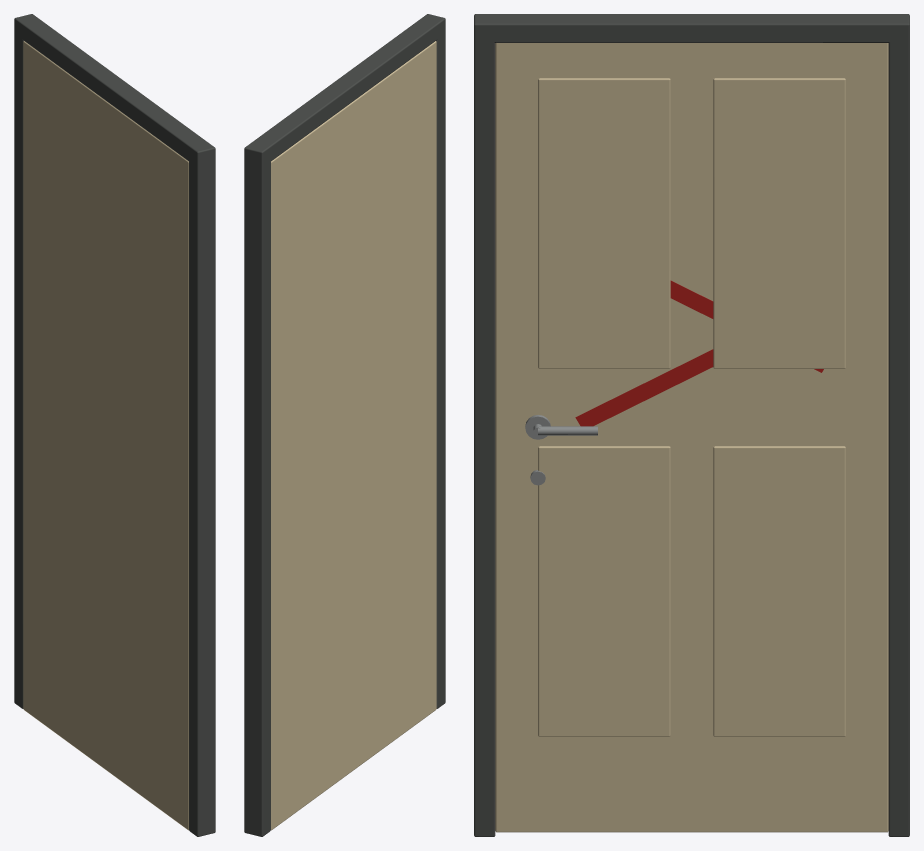
Rendered from door_steel_cream.glb.
3 views of the same model, side by side, from view 1: azimuth 30°, elevation 25°; view 2: azimuth 150°, elevation 25°; view 3: azimuth 270°, elevation 25° (orthographic). The views are drawn at different scales.
Parts seen in each view (by area): view 1: blatt, zarge_r, zarge_l, zarge_o; view 2: blatt, zarge_l, zarge_r, zarge_o; view 3: blatt, praegung01, praegung10, praegung11, praegung00, zarge_r, zarge_l, zarge_o, spray0, spray1.
Part boxes in pixels (x1,y1,x2,y2): blatt: (23,41,188,830); zarge_r: (189,142,215,836); zarge_l: (14,14,39,708); zarge_o: (14,14,215,166); blatt: (271,41,436,830); zarge_l: (244,142,270,836); zarge_r: (421,14,445,708); zarge_o: (244,14,445,166); blatt: (495,43,888,832); praegung01: (538,78,670,368); praegung10: (713,446,845,736); praegung11: (713,78,845,368); praegung00: (538,446,670,736); zarge_r: (474,14,495,836); zarge_l: (888,14,909,836); zarge_o: (474,14,909,42); spray0: (575,349,713,426); spray1: (670,280,823,372).
Bounding box in the file's own units: 0.0705 × 2.1 × 1.02.
